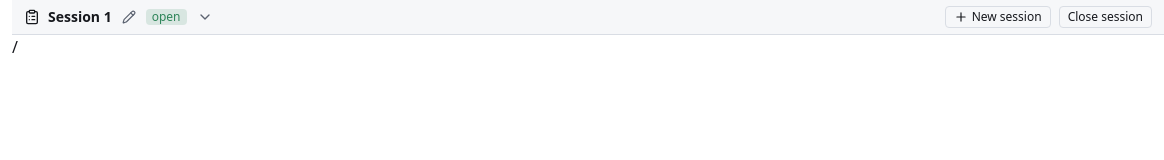
Test: SessionHeader › Close session posts close and shows closing
This screenshot has width=1164, height=160.
Click the button "Close session" at (1105, 17), box [1059,6,1152,28]
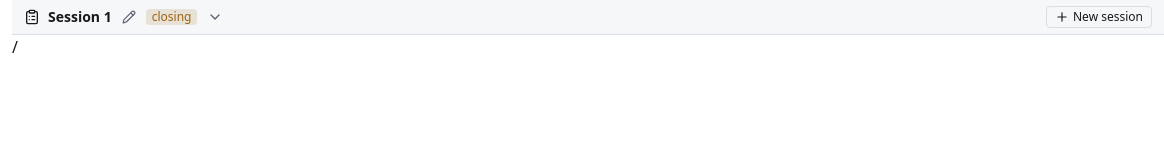
Expected: the text named "Session status" reads "closing", [152,8,192,25]
Expected: the button "Close session" is gone
